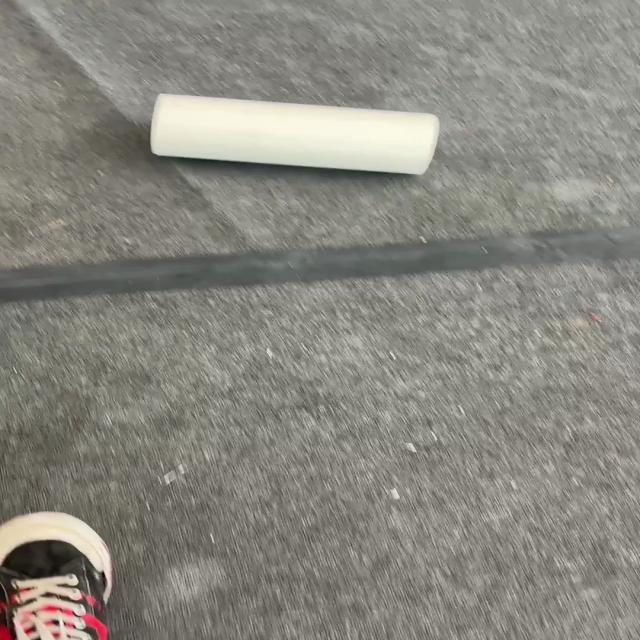Coral: (148, 92, 440, 175)
